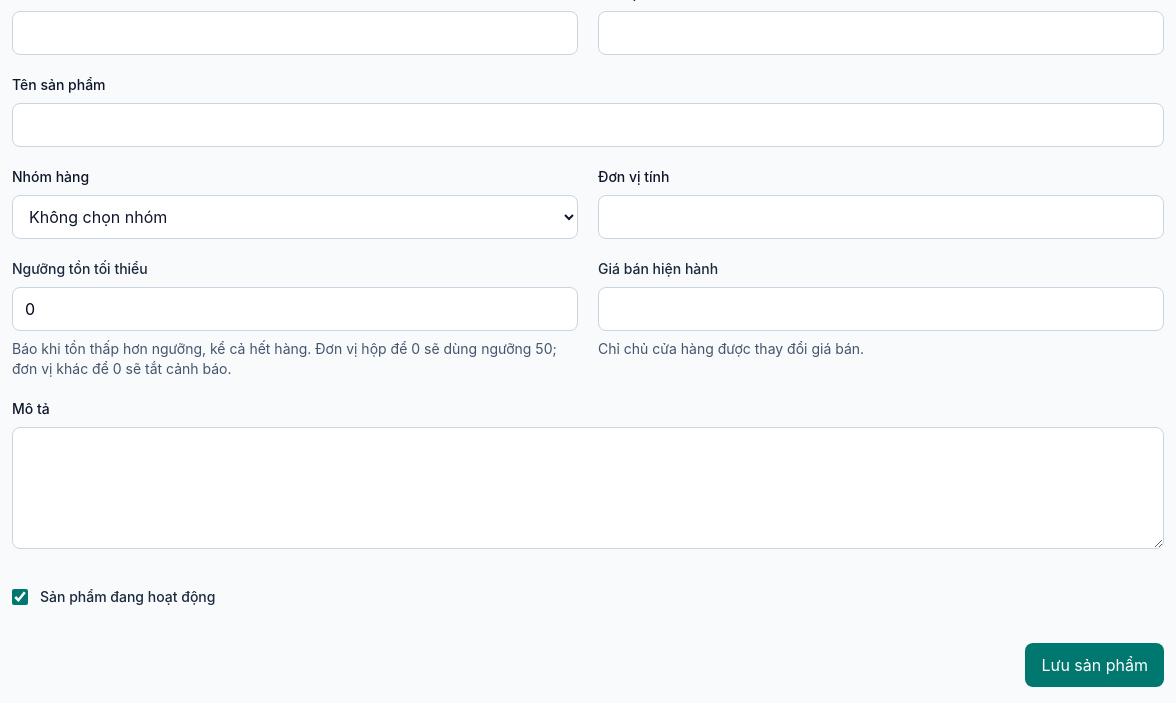
Test case: ProductForm › shows safe duplicate and version-conflict errors
Type "SP-001" into the field labelled "SKU" at x=295, y=33, box [12,11,578,55]
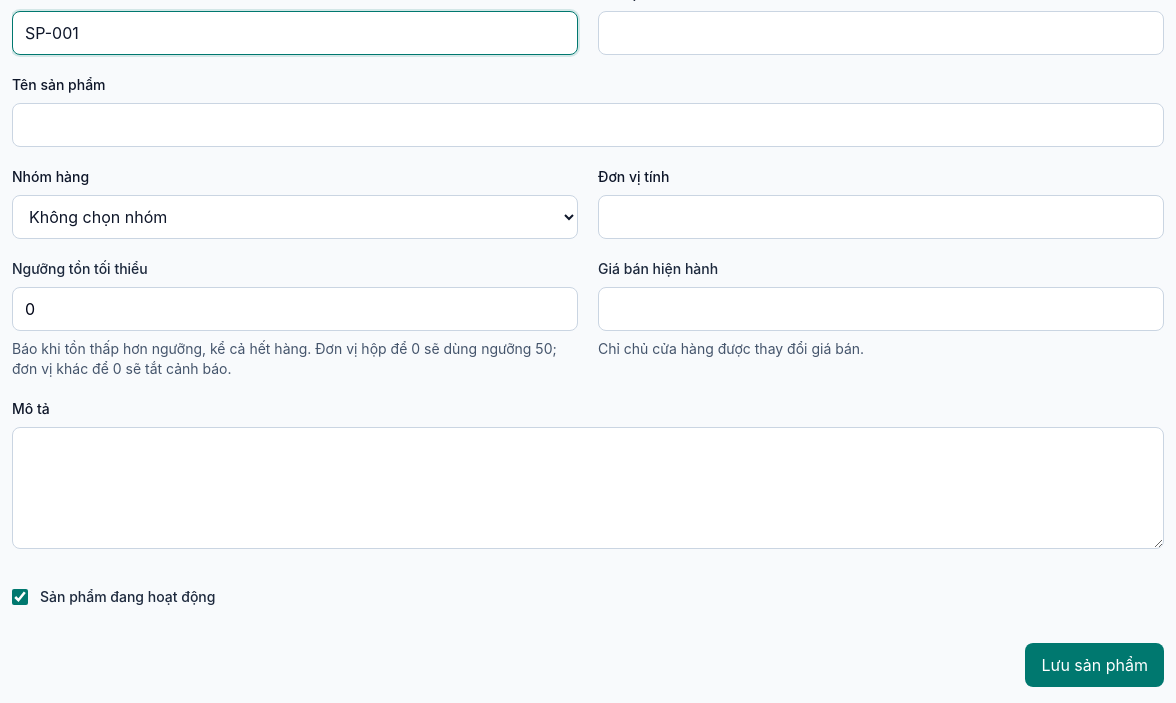
Type "Sản phẩm A" into the field labelled "Tên sản phẩm" at x=588, y=125, box [12,103,1164,147]
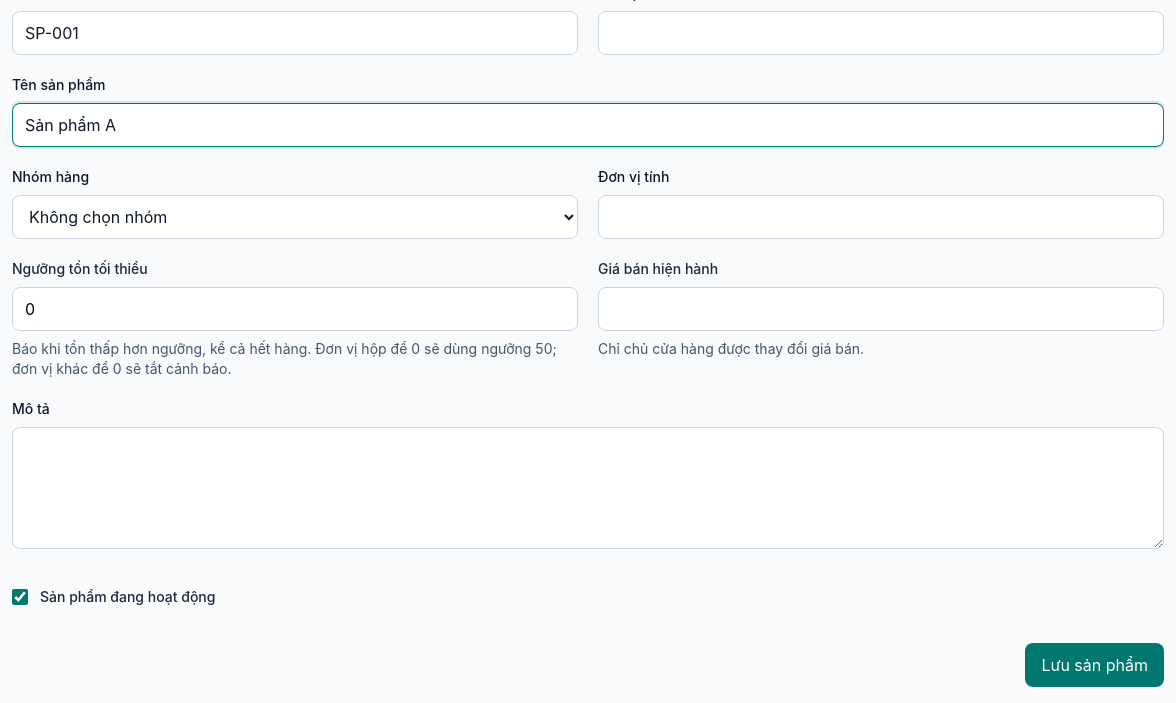
Type "Hộp" into the field labelled "Đơn vị tính" at x=881, y=217, box [598,195,1164,239]
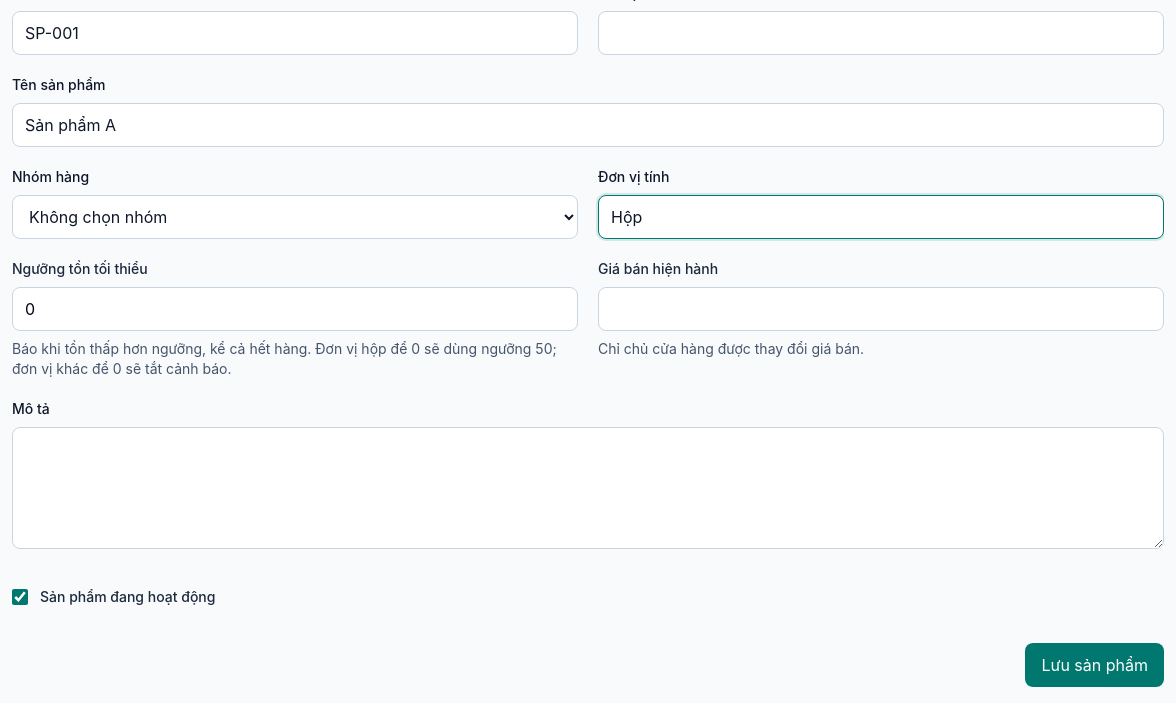
Click the button "Lưu sản phẩm" at x=1095, y=665, box [1025,643,1164,687]
(page scrolled)
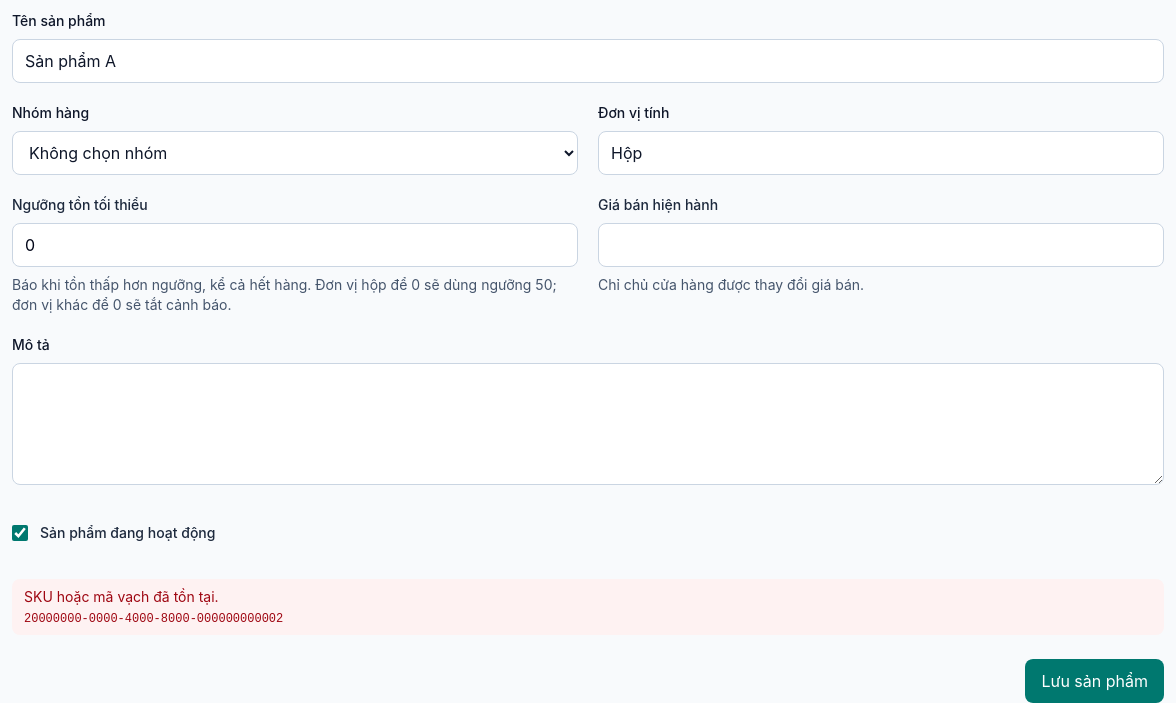
expect the text "SKU hoặc mã vạch đã tồn tại." is shown: met, box [24,588,219,605]
Click the button "Lưu sản phẩm" at x=1095, y=681, box [1025,659,1164,702]
(page scrolled)
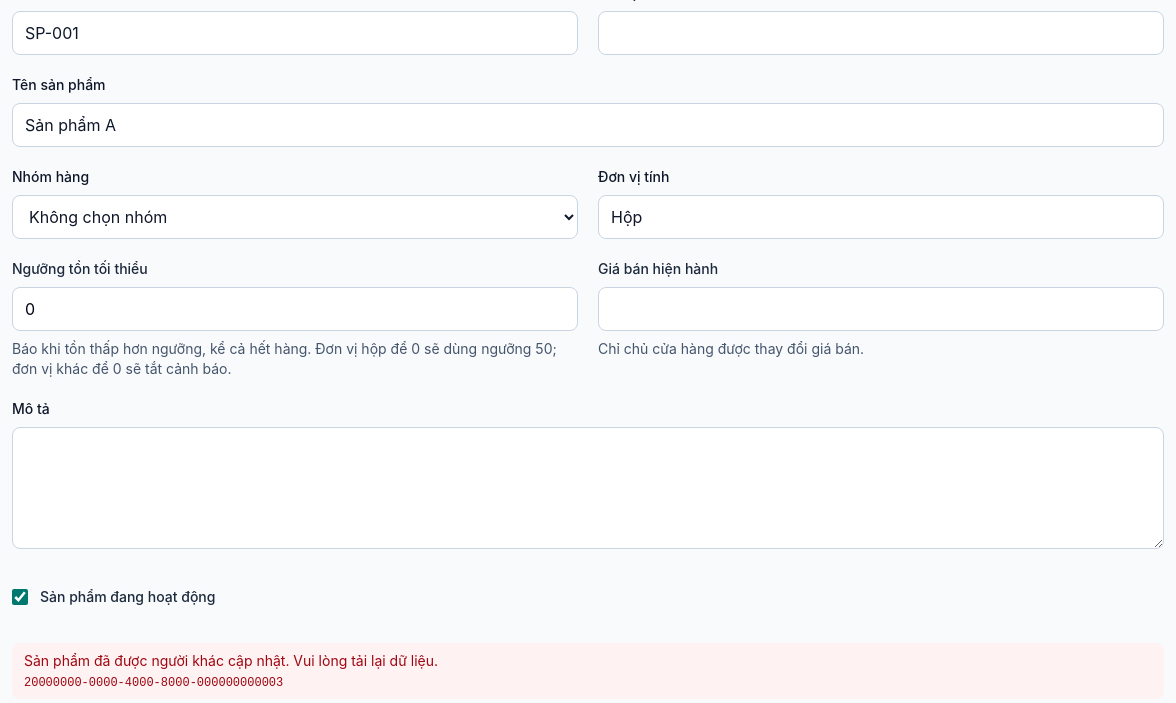
expect the text "Sản phẩm đã được người khác cập nhật. Vui lòng tải lại dữ liệu." is shown: met, box [24,652,438,669]
